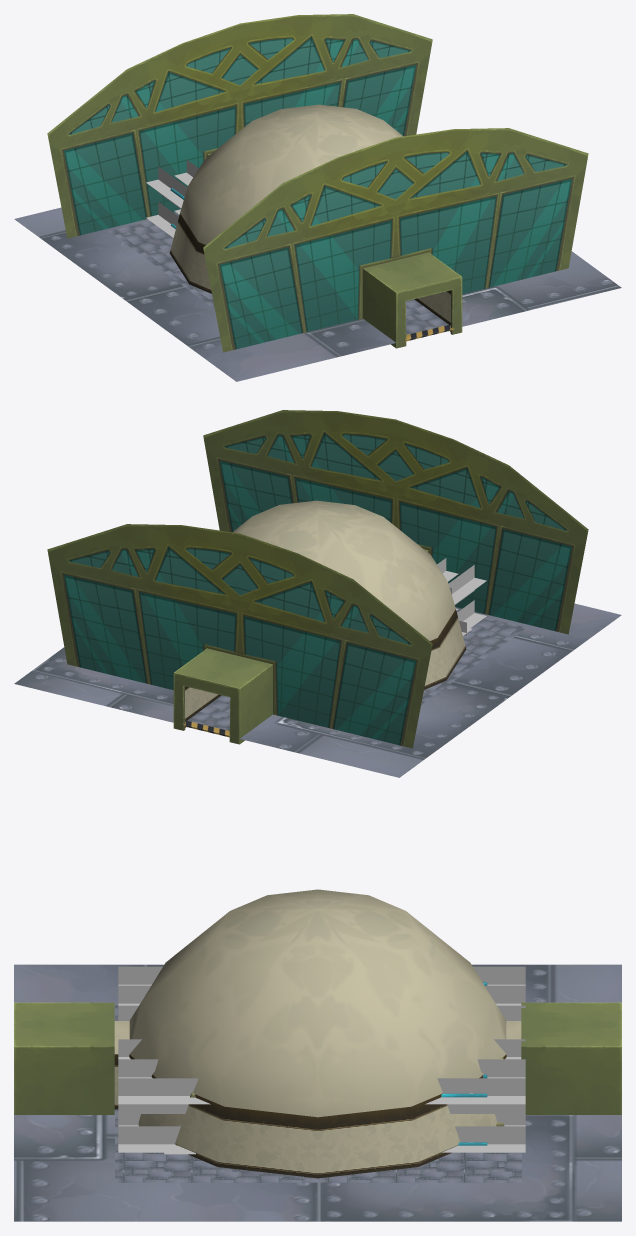
The model's file is scene_pass_01.FBX.
The picture shows the model from 3 angles, top to bottom: view 1: azimuth 30°, elevation 25°; view 2: azimuth 150°, elevation 25°; view 3: azimuth 270°, elevation 25°; orthographic projection. The views are drawn at different scales.
Visible parts, largest first — view 1: scene_pass_01; view 2: scene_pass_01; view 3: scene_pass_01.
Boxes of the visible parts, bbox=[...] form: scene_pass_01: bbox=[14, 14, 621, 381]; scene_pass_01: bbox=[14, 410, 621, 777]; scene_pass_01: bbox=[14, 889, 621, 1221].
Size of the model in its own units: 10000 by 4528 by 10000.
